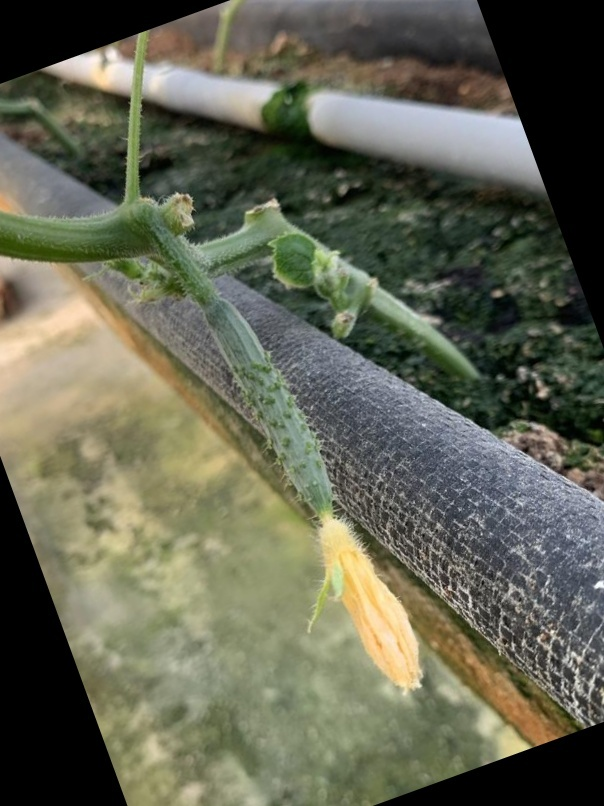bear: (190, 285, 413, 676)
